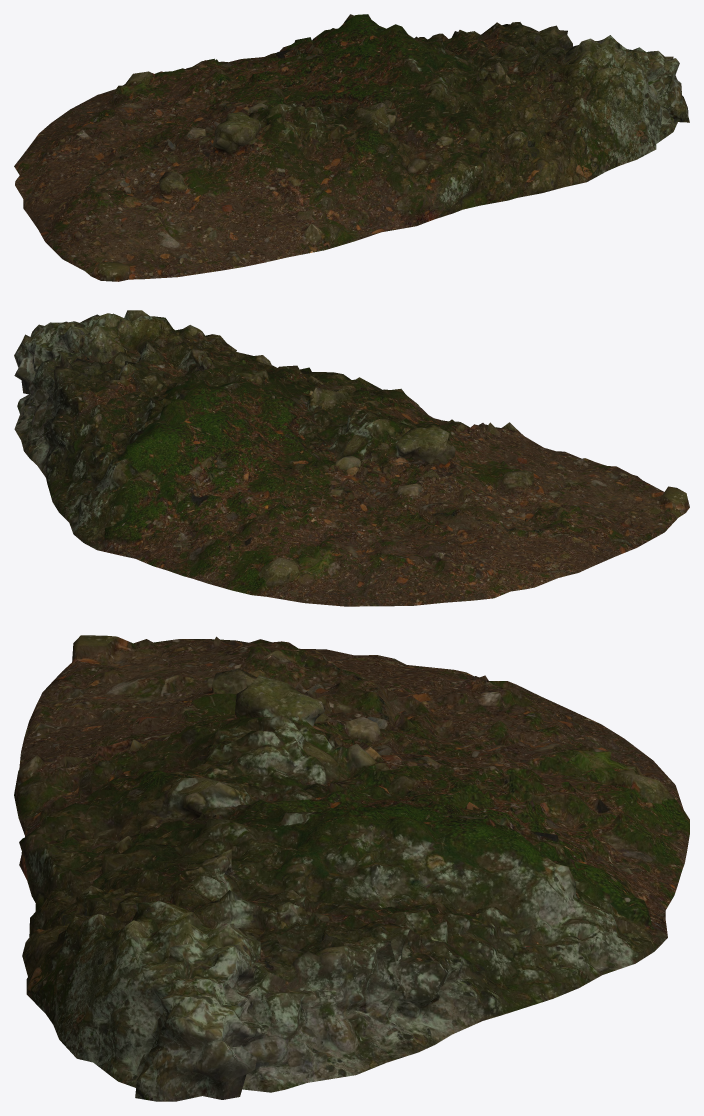
File: forest_european_broadleaf_ground_rock_m_02_xlojbft_mid.glb
3 views of the same model, one above another, from view 1: azimuth 30°, elevation 25°; view 2: azimuth 150°, elevation 25°; view 3: azimuth 270°, elevation 25° (orthographic). The views are drawn at different scales.
Visible parts, largest first — view 1: xlojbft_LOD0_TIER2_000; view 2: xlojbft_LOD0_TIER2_000; view 3: xlojbft_LOD0_TIER2_000.
Boxes of the visible parts, x1,y1,x2,y2 form: xlojbft_LOD0_TIER2_000: (14,14,689,281); xlojbft_LOD0_TIER2_000: (14,310,689,606); xlojbft_LOD0_TIER2_000: (14,635,689,1101).
Size of the model in its own units: 2.24 by 0.2874 by 1.37.
1 material, 1 textured.
